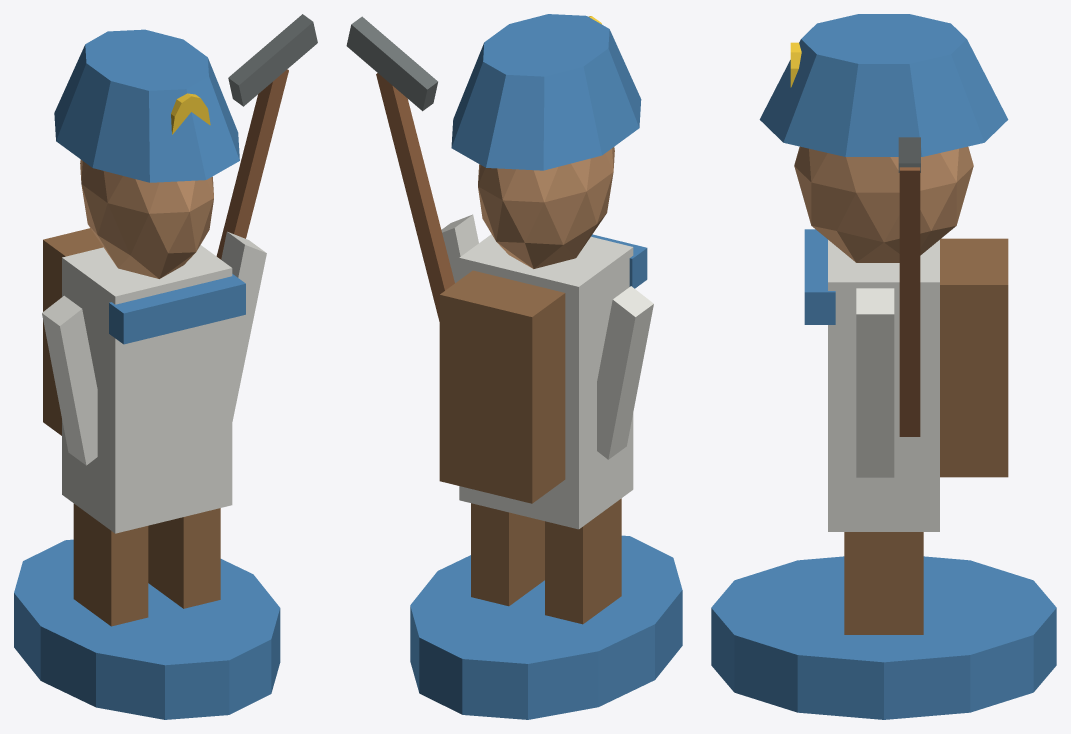
File: peao_garimpeiro_anil.glb
The picture shows the model from 3 angles, left to right: view 1: azimuth 30°, elevation 25°; view 2: azimuth 150°, elevation 25°; view 3: azimuth 270°, elevation 25°; orthographic projection. The views are drawn at different scales.
Parts seen in each view (by area): view 1: peao_garimpeiro_anil; view 2: peao_garimpeiro_anil; view 3: peao_garimpeiro_anil.
Part boxes in pixels (bbox=[...]): peao_garimpeiro_anil: bbox=[14, 14, 317, 719]; peao_garimpeiro_anil: bbox=[346, 14, 682, 719]; peao_garimpeiro_anil: bbox=[711, 14, 1056, 719].
Size of the model in its own units: 2 by 4 by 2.
